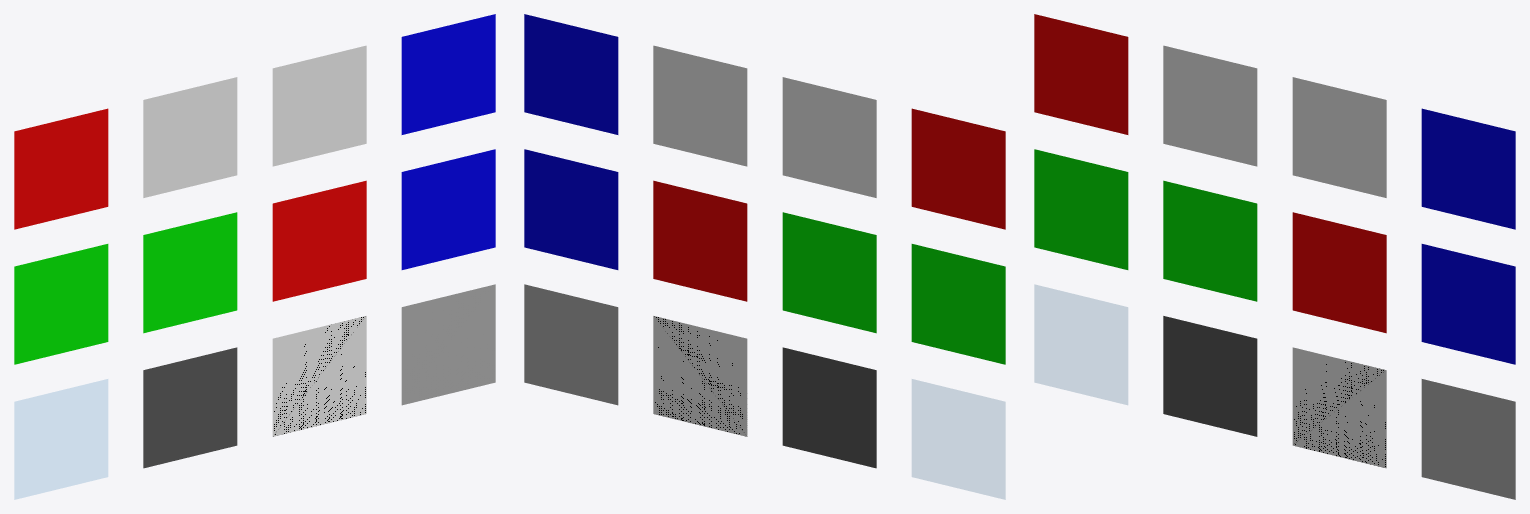
3 renders of one model, left to right at view 1: azimuth 30°, elevation 25°; view 2: azimuth 150°, elevation 25°; view 3: azimuth 330°, elevation 25°, orthographic.
Size of the model in its own units: 8.2 by 6 by 0.
12 materials, 11 textured.
